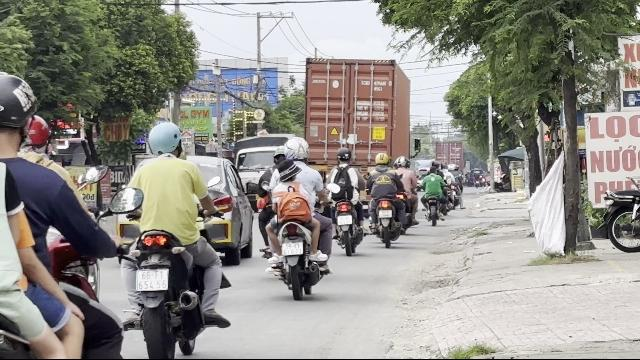helmet: (145, 121, 183, 158), (283, 136, 309, 162)
licenseplate: (136, 268, 168, 290), (282, 242, 302, 256)
motorcyclist: (114, 118, 232, 358), (258, 133, 332, 297)
nohelmet: (274, 160, 302, 184)
